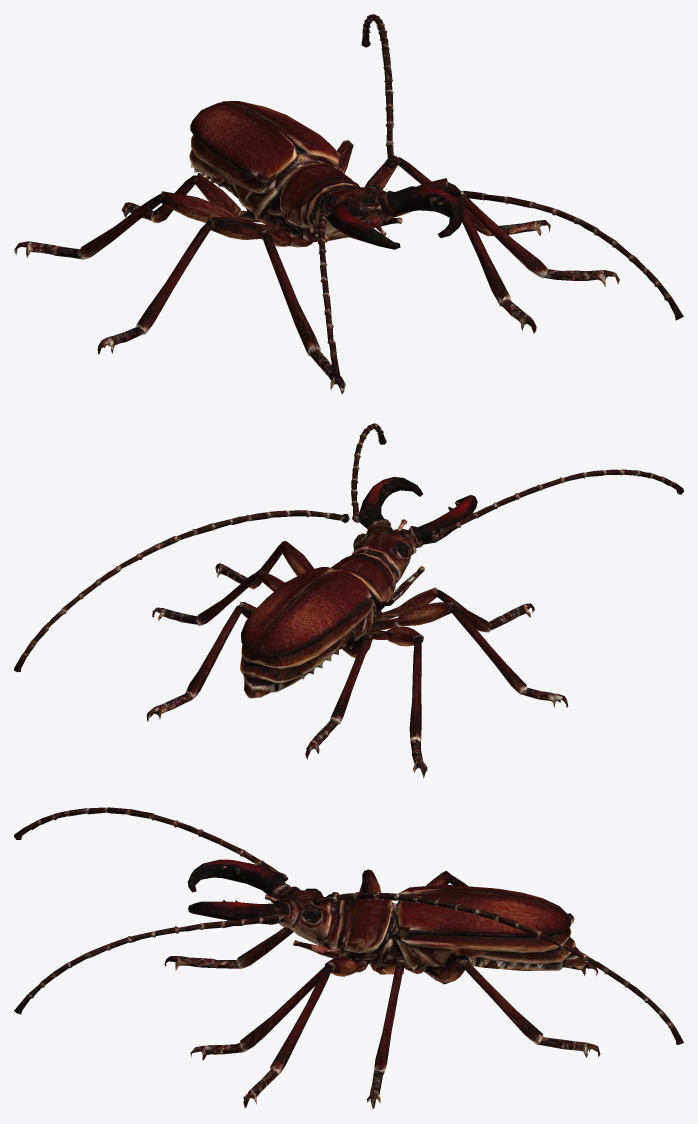
The model's file is longhorn.glb.
3 renders of one model, top to bottom at view 1: azimuth 30°, elevation 25°; view 2: azimuth 150°, elevation 25°; view 3: azimuth 270°, elevation 25°, orthographic. The views are drawn at different scales.
Visible parts, largest first — view 1: longhorn; view 2: longhorn; view 3: longhorn.
Part boxes in pixels (<box>): longhorn: <box>14,14,683,394</box>; longhorn: <box>14,423,683,778</box>; longhorn: <box>14,807,683,1109</box>.
Bounding box in the file's own units: 0.724 × 0.2556 × 1.
Materials: 1 (1 with a texture image).
